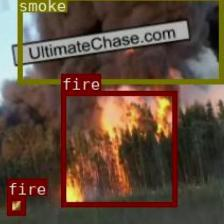fire: (60, 90, 176, 206), (6, 195, 25, 214)
smoke: (17, 0, 222, 83)
